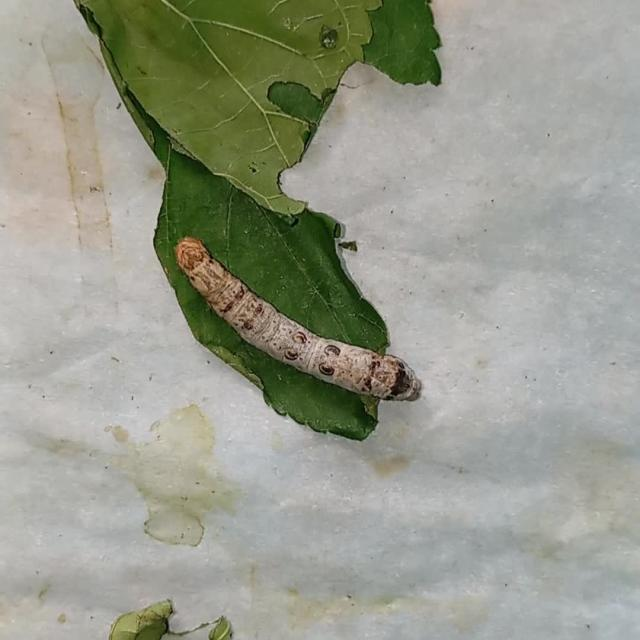Grasserie: (168, 225, 430, 438)
